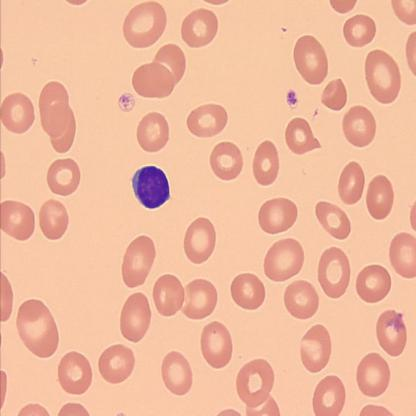Lymphocyte: (131, 164, 171, 210)
